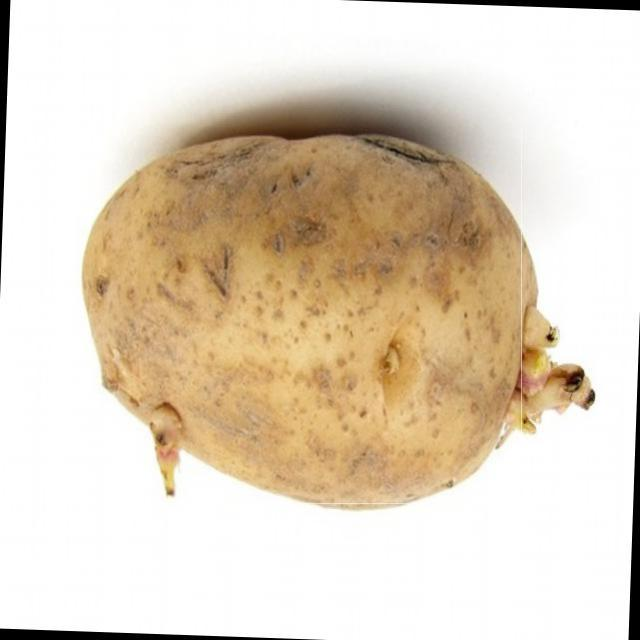potato: (91, 127, 522, 504)
